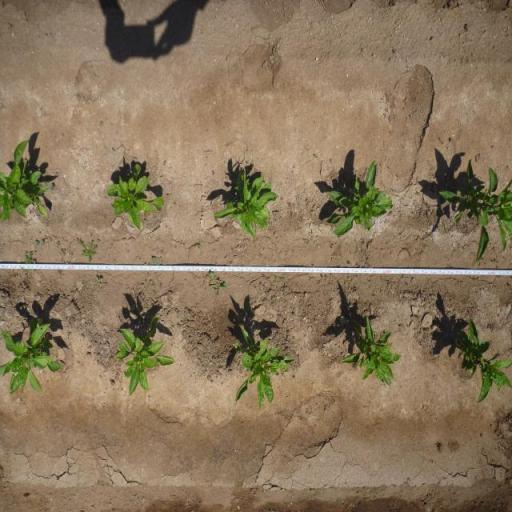plant: (440, 157, 512, 259), (322, 158, 396, 238), (230, 323, 296, 412), (0, 314, 65, 400), (450, 315, 512, 405), (112, 313, 176, 396), (212, 167, 280, 243), (338, 314, 401, 392), (0, 137, 54, 222), (106, 161, 164, 232)
weed: (208, 271, 228, 298), (78, 238, 98, 264), (23, 250, 38, 272), (150, 255, 164, 265), (60, 257, 71, 265), (96, 274, 102, 288), (34, 238, 44, 246), (60, 248, 66, 256), (198, 240, 203, 249), (68, 250, 74, 257), (492, 258, 499, 264), (98, 120, 104, 126), (56, 241, 60, 249), (450, 136, 454, 144), (313, 153, 318, 159), (348, 262, 352, 267), (434, 260, 438, 265), (112, 147, 114, 152)
